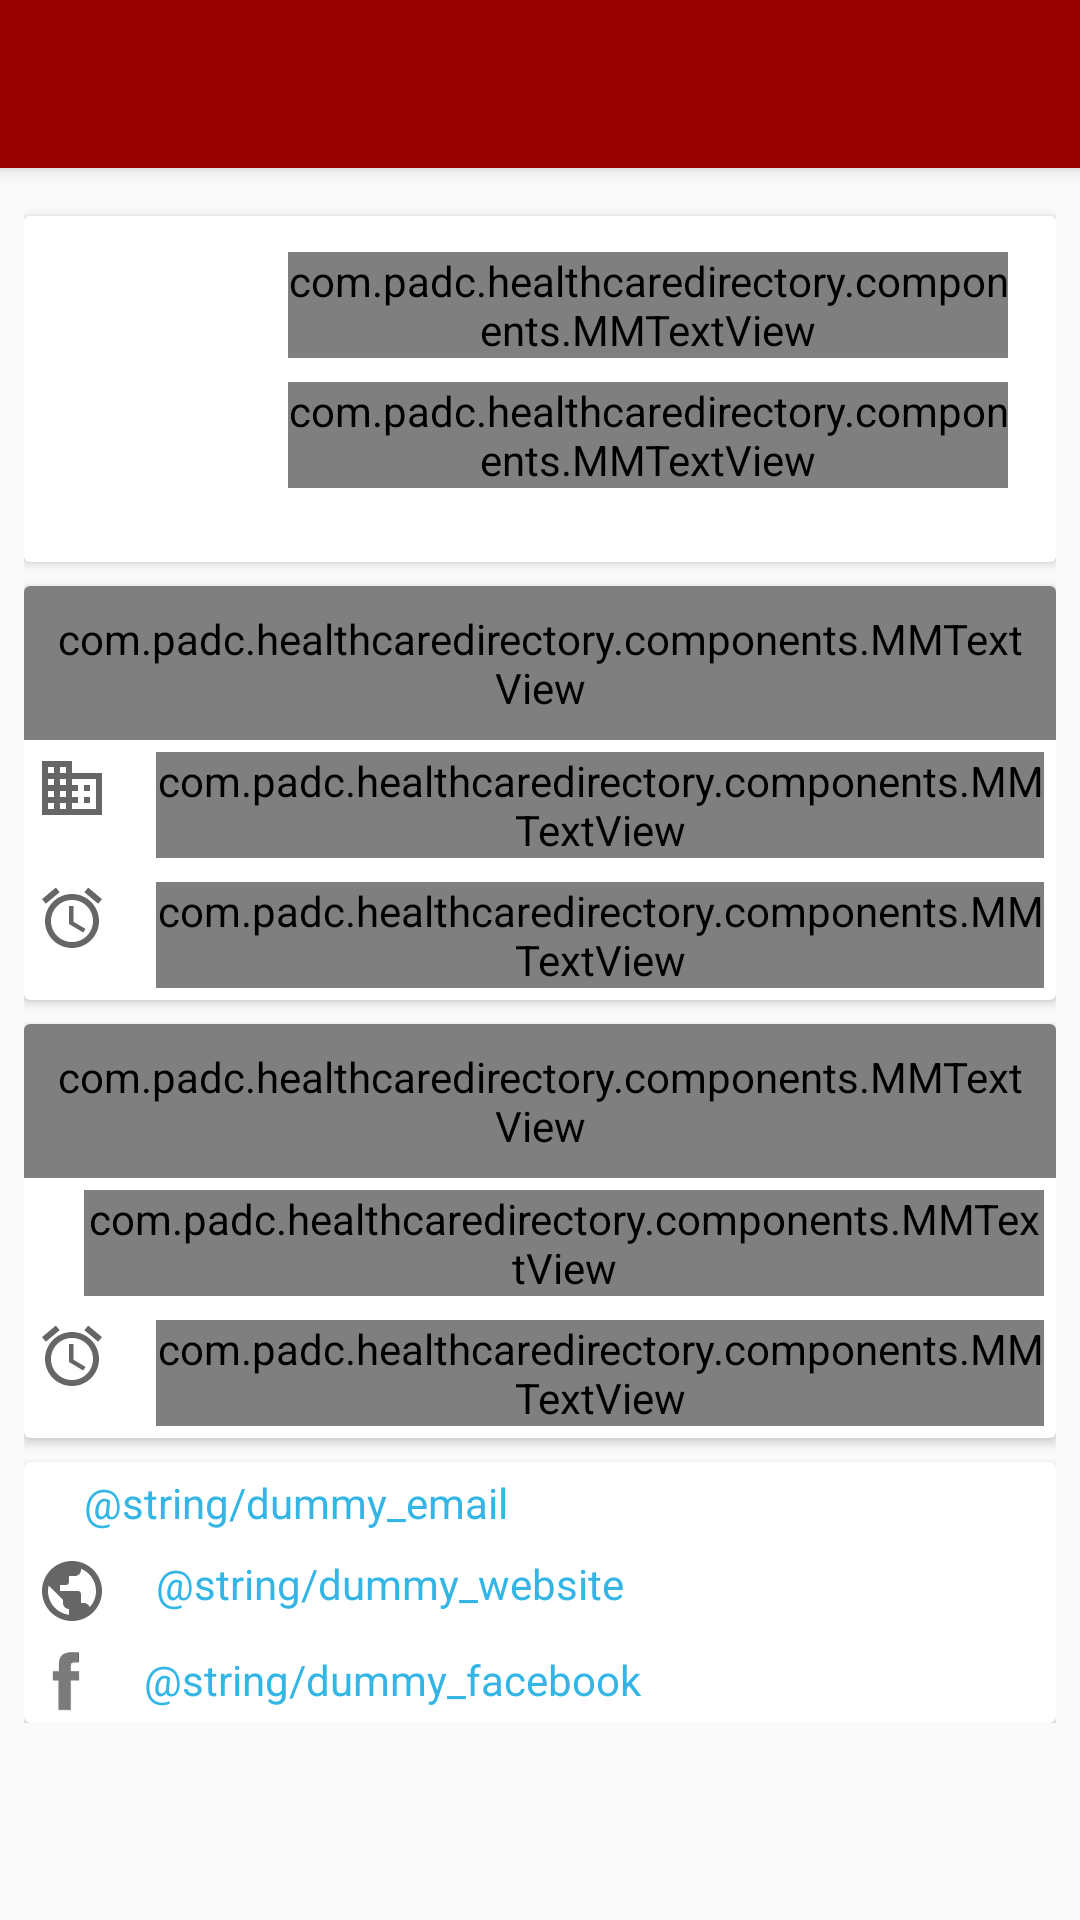

Screen size 1080px×1920px. Icon name, then its center in pixels as (x,y):
clinic: (72,788)
timetable: (72,918), (72,1356)
